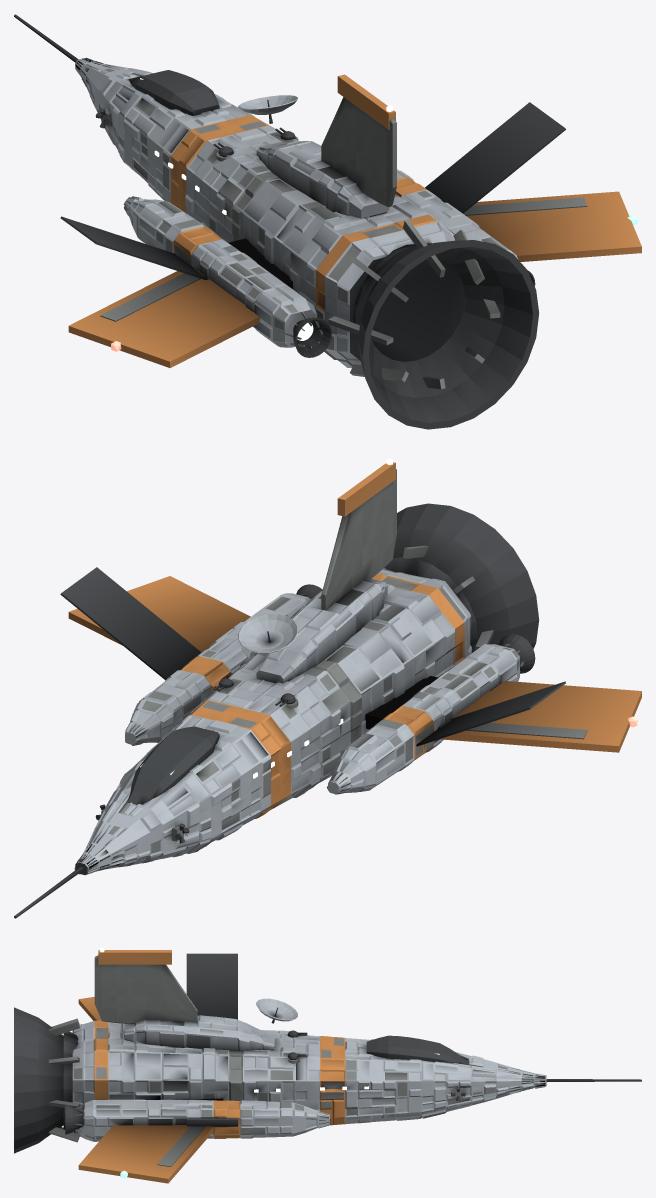
File: player.glb
3 views of the same model, one above another, from view 1: azimuth 30°, elevation 25°; view 2: azimuth 150°, elevation 25°; view 3: azimuth 270°, elevation 25° (orthographic). The views are drawn at different scales.
Parts seen in each view (by area): view 1: body; view 2: body; view 3: body.
Boxes of the visible parts, left/top/right/bottom form: body: left=14, top=14, right=641, bottom=429; body: left=14, top=458, right=641, bottom=918; body: left=14, top=947, right=641, bottom=1183.
Bounding box in the file's own units: 1.25 × 0.6 × 1.71.
